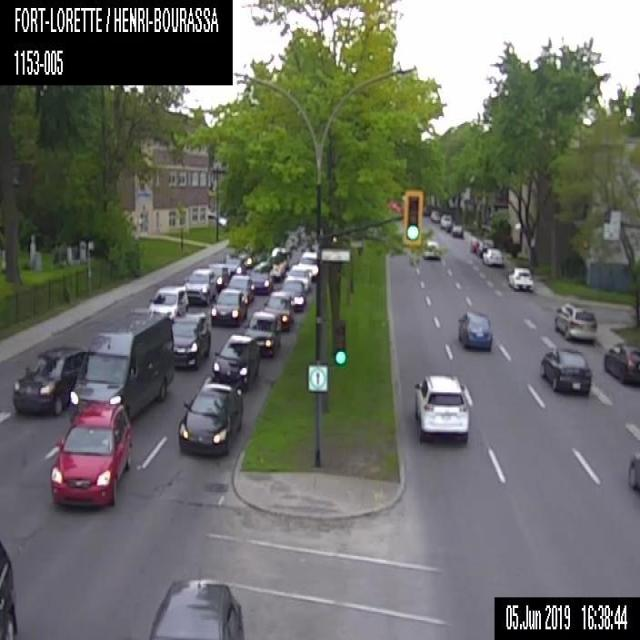vehicle: (67, 308, 176, 420), (50, 402, 131, 508), (147, 572, 244, 639), (177, 380, 244, 459), (412, 368, 473, 444), (32, 342, 88, 414), (538, 344, 591, 396), (212, 330, 260, 387), (166, 315, 210, 368), (552, 298, 597, 342), (0, 537, 18, 639), (601, 338, 639, 386), (456, 304, 494, 351), (244, 310, 284, 354), (210, 288, 246, 326), (147, 285, 188, 318), (183, 268, 218, 304), (262, 288, 293, 326), (226, 274, 255, 303), (284, 262, 313, 290), (282, 278, 307, 309), (264, 244, 287, 277), (506, 264, 533, 291), (248, 264, 272, 294), (235, 246, 265, 267), (626, 448, 639, 496), (297, 250, 317, 279), (221, 254, 246, 276), (208, 262, 228, 287), (482, 249, 503, 267), (476, 238, 493, 258), (423, 239, 438, 259), (439, 212, 452, 229), (469, 237, 480, 252), (452, 223, 462, 237), (445, 220, 456, 232), (428, 210, 441, 220), (218, 215, 224, 222)
